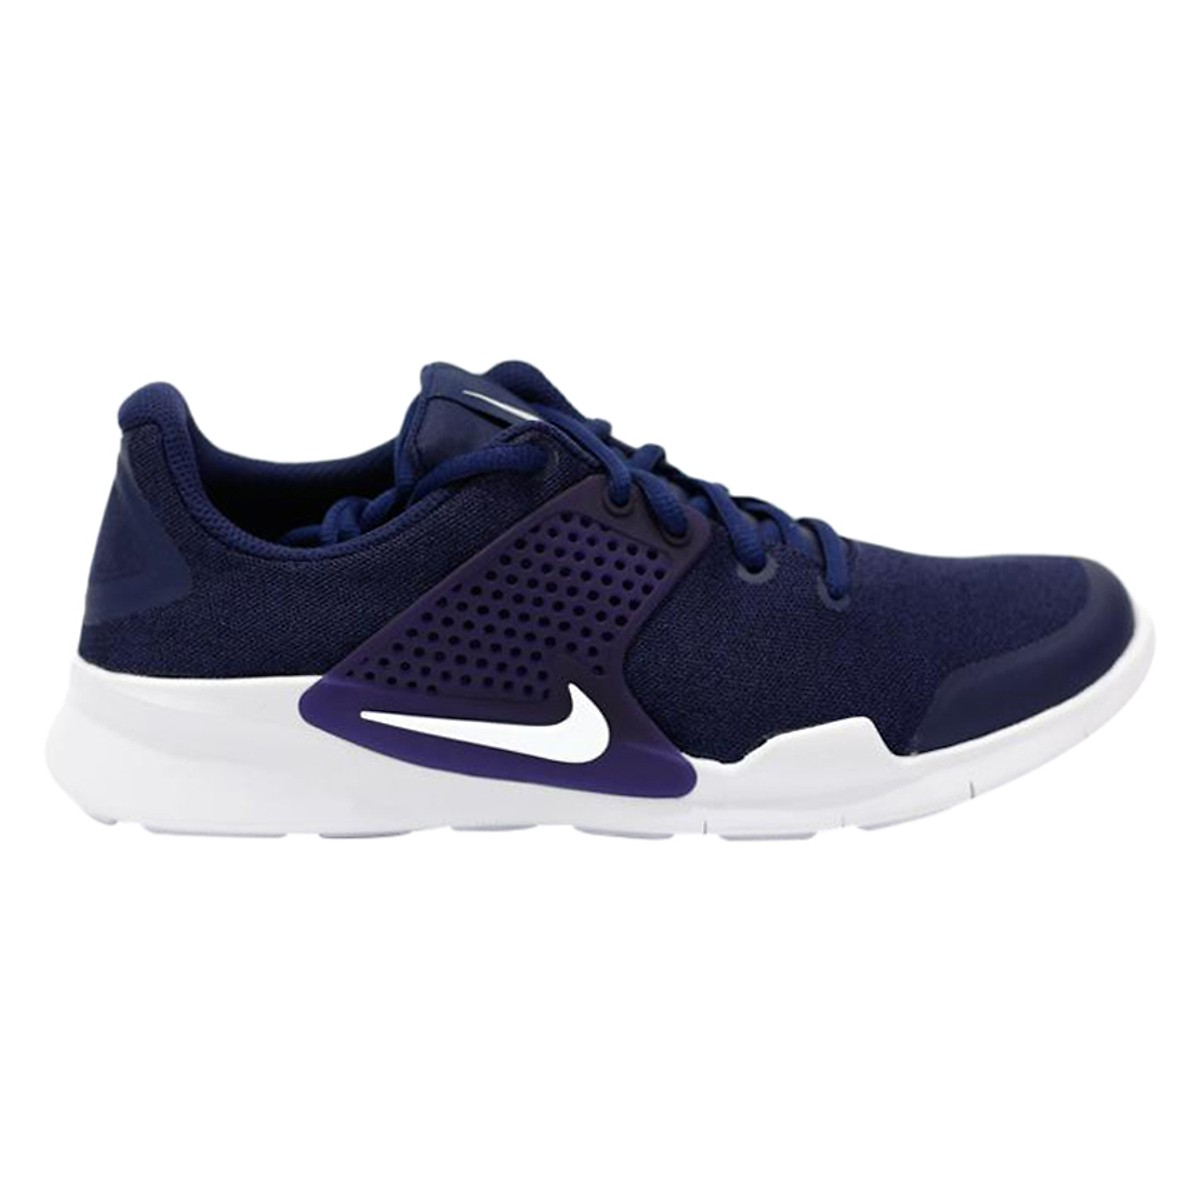Nike: (352, 641, 643, 824)
